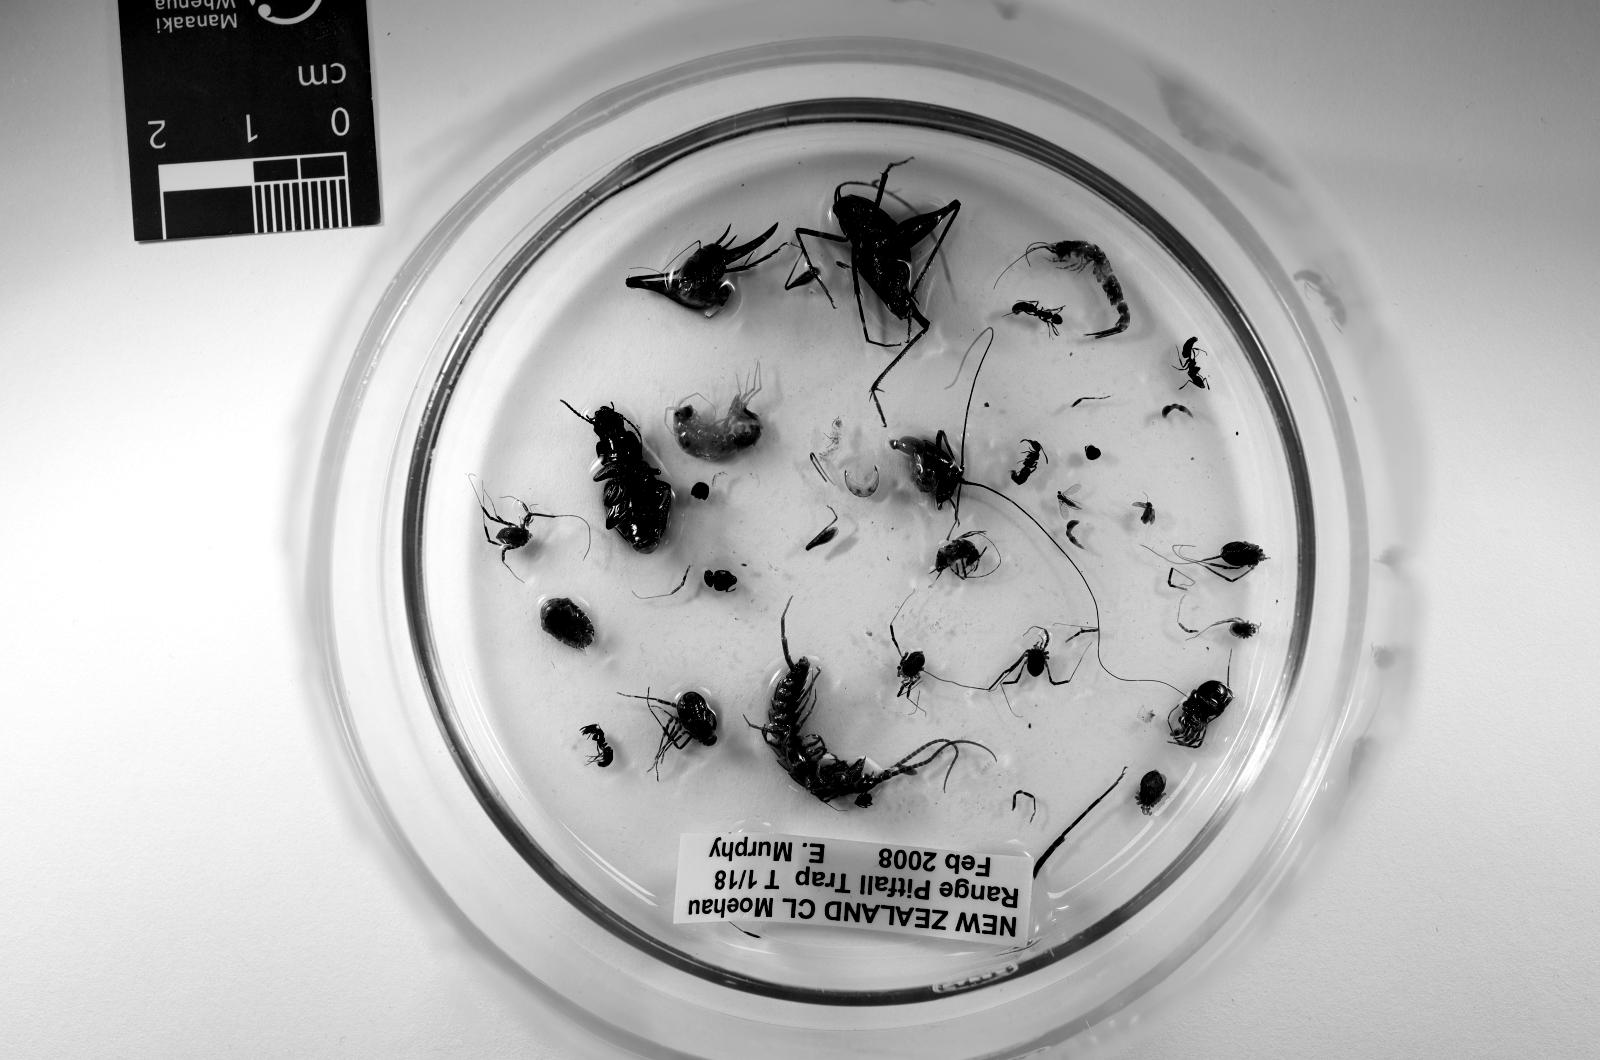amphipoda: (672, 363, 763, 459), (818, 419, 843, 459)
archaeognatha: (1022, 239, 1132, 338)
carabidae: (582, 403, 672, 552)
chilopoda: (747, 600, 978, 807)
coleoptera: (704, 568, 738, 593), (1132, 503, 1157, 525)
diptera: (1056, 485, 1081, 522)
formicidae: (1010, 302, 1062, 336), (1178, 338, 1210, 388), (1010, 441, 1041, 485)
isopoda: (540, 600, 594, 649)
opiliones: (478, 491, 578, 565), (643, 692, 719, 770), (987, 627, 1069, 690), (1168, 680, 1235, 749), (890, 621, 925, 707), (1197, 541, 1265, 581), (1134, 770, 1166, 814), (1229, 618, 1259, 640)
orthoptera: (797, 161, 959, 426), (626, 224, 782, 317), (890, 432, 974, 528), (934, 531, 1000, 577)
